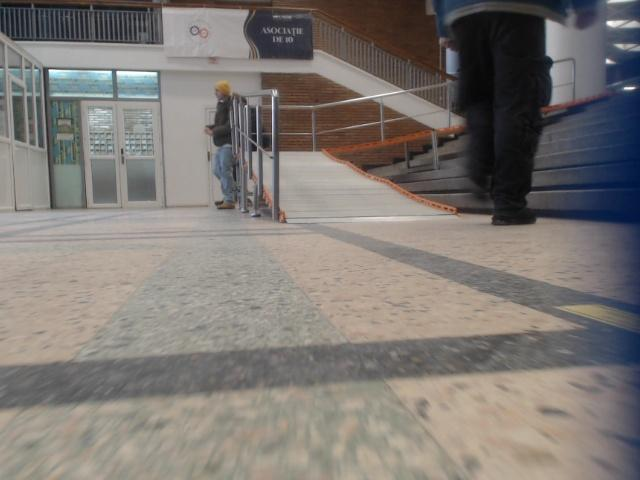rampUp: (278, 154, 454, 221), (263, 154, 272, 199)
ramps-railing: (239, 89, 279, 220), (236, 106, 267, 216), (270, 177, 278, 220)
